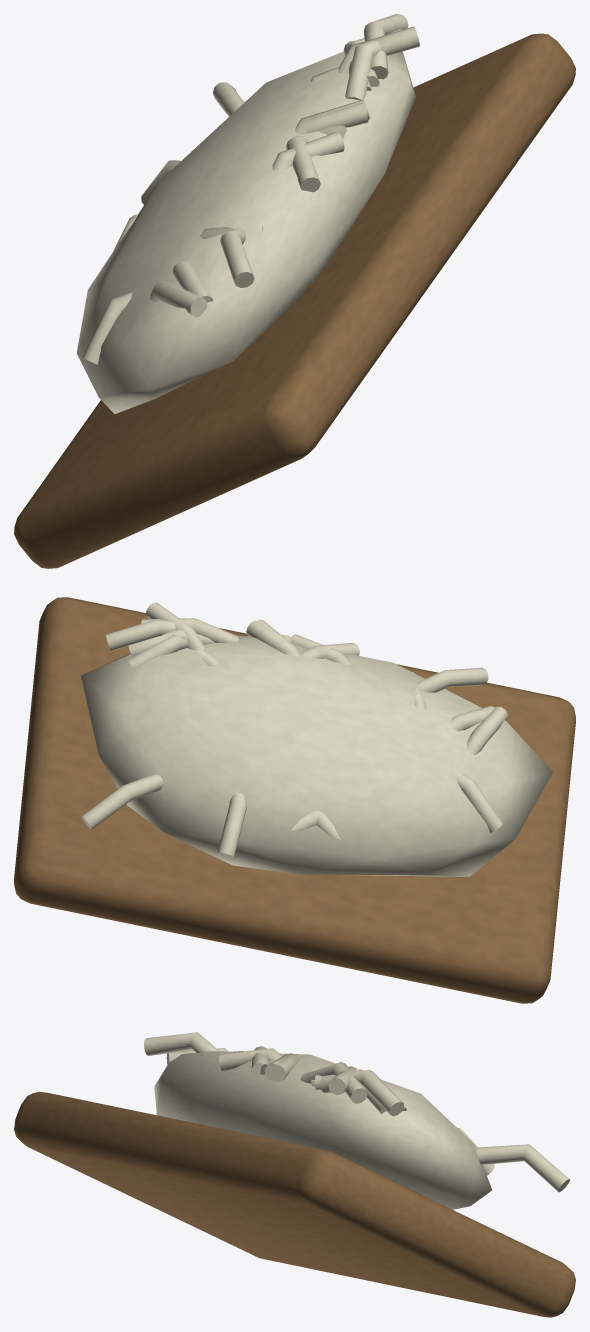
3 views of the same model, one above another, from view 1: azimuth 30°, elevation 25°; view 2: azimuth 150°, elevation 25°; view 3: azimuth 270°, elevation 25° (orthographic). The views are drawn at different scales.
Visible parts, largest first — view 1: Shallow pulping tray; view 2: Shallow pulping tray; view 3: Shallow pulping tray.
Part boxes in pixels (x1,y1,x2,y2): Shallow pulping tray: (14,14,575,568); Shallow pulping tray: (14,597,575,1003); Shallow pulping tray: (14,1032,575,1317).
Bounding box in the file's own units: 1.08 × 0.7245 × 1.06.
1 material, 1 textured.
